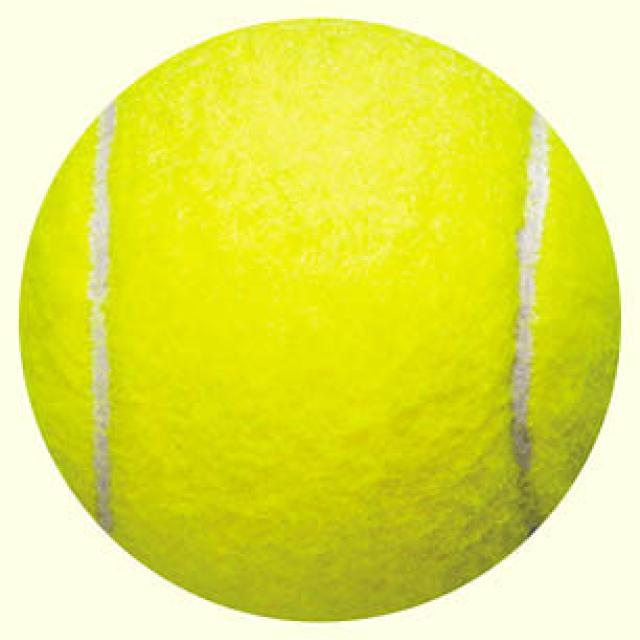Tennis Ball: (15, 17, 621, 625)
